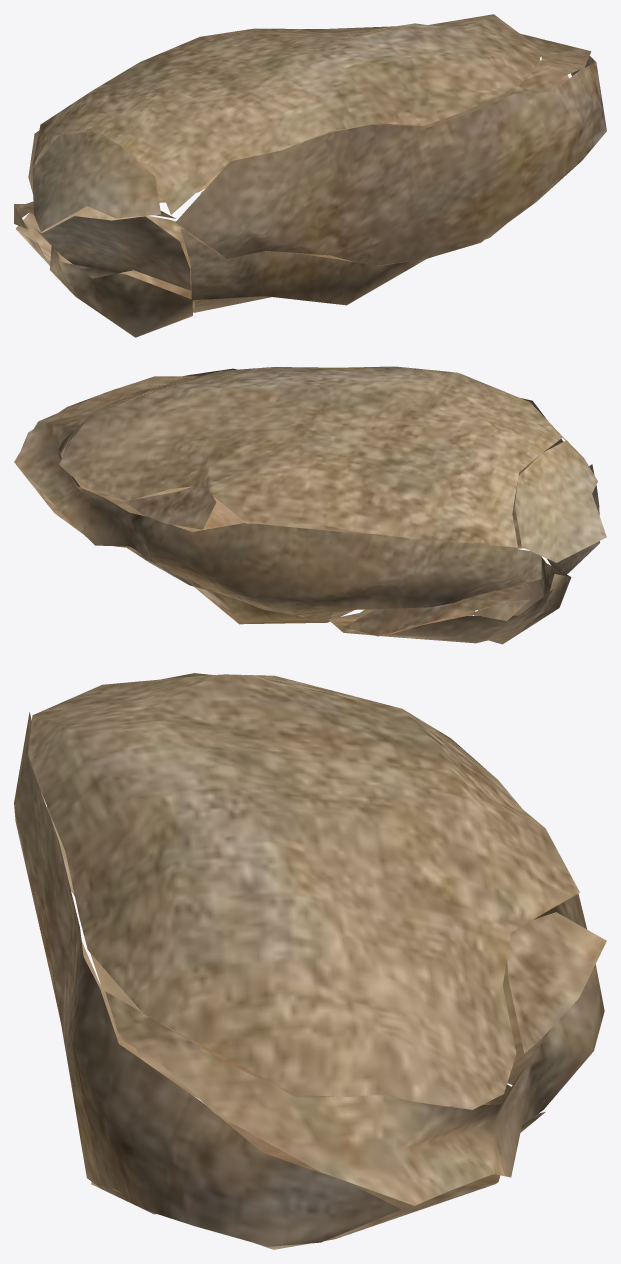
The model's file is namaqualand_boulder_05_lod2.glb.
3 views of the same model, one above another, from view 1: azimuth 30°, elevation 25°; view 2: azimuth 150°, elevation 25°; view 3: azimuth 270°, elevation 25° (orthographic). The views are drawn at different scales.
Parts seen in each view (by area): view 1: namaqualand_boulder_05; view 2: namaqualand_boulder_05; view 3: namaqualand_boulder_05.
Boxes of the visible parts, bbox=[...] form: namaqualand_boulder_05: bbox=[14, 14, 606, 337]; namaqualand_boulder_05: bbox=[14, 366, 606, 644]; namaqualand_boulder_05: bbox=[14, 673, 606, 1249].
Size of the model in its own units: 1.35 by 0.5121 by 0.7341.
Materials: 1 (1 with a texture image).
